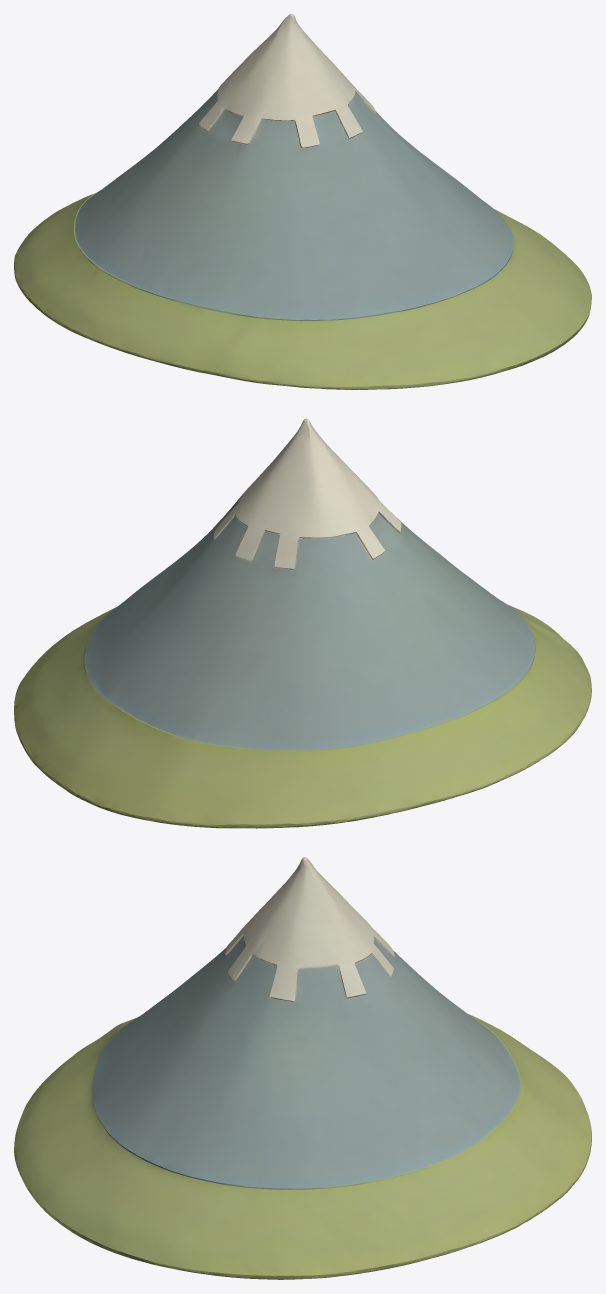
The model's file is source.glb.
3 views of the same model, one above another, from view 1: azimuth 30°, elevation 25°; view 2: azimuth 150°, elevation 25°; view 3: azimuth 270°, elevation 25° (orthographic). The views are drawn at different scales.
Visible parts, largest first — view 1: model; view 2: model; view 3: model.
Boxes of the visible parts, <box> form: model: <box>14,14,591,389</box>; model: <box>14,418,591,828</box>; model: <box>14,857,591,1279</box>.
Bounding box in the file's own units: 1.9 × 1.07 × 1.88.
1 material, 1 textured.
